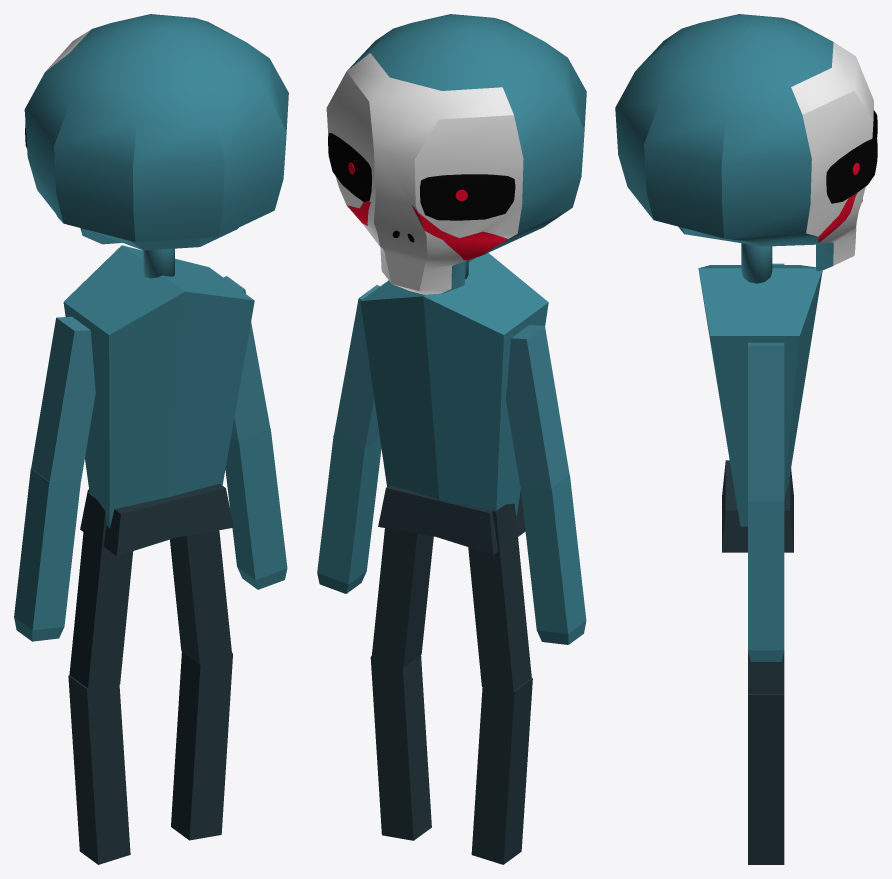
Rendered from Зомби в Маске.fbx.
3 renders of one model, left to right at view 1: azimuth 30°, elevation 25°; view 2: azimuth 150°, elevation 25°; view 3: azimuth 270°, elevation 25°, orthographic.
Visible parts, largest first — view 1: Plane.001, Cube, Cube.005, Cube.002, Cube.004, Cube.001, Cube.003; view 2: Plane.001, Cube, Cube.005, Cube.002, Cube.004, Cube.001, Cube.003; view 3: Plane.001, Cube, Cube.005, Cube.002, Cube.001, Cube.003, Cube.004.
Boxes of the visible parts, bbox=[...] form: Plane.001: bbox=[24, 14, 288, 250]; Cube: bbox=[63, 245, 254, 528]; Cube.005: bbox=[68, 652, 232, 864]; Cube.002: bbox=[14, 428, 287, 641]; Cube.004: bbox=[69, 492, 231, 688]; Cube.001: bbox=[31, 276, 270, 481]; Cube.003: bbox=[80, 483, 233, 556]; Plane.001: bbox=[326, 14, 586, 294]; Cube: bbox=[360, 253, 548, 515]; Cube.005: bbox=[370, 655, 532, 864]; Cube.002: bbox=[317, 435, 586, 644]; Cube.004: bbox=[371, 485, 531, 691]; Cube.001: bbox=[334, 285, 569, 488]; Cube.003: bbox=[378, 485, 525, 554]; Plane.001: bbox=[615, 14, 877, 271]; Cube: bbox=[698, 243, 822, 526]; Cube.005: bbox=[748, 694, 784, 864]; Cube.002: bbox=[748, 500, 784, 661]; Cube.001: bbox=[748, 263, 784, 499]; Cube.003: bbox=[722, 460, 793, 552]; Cube.004: bbox=[748, 651, 784, 693].
Bounding box in the file's own units: 72.12 × 223 × 65.42.
